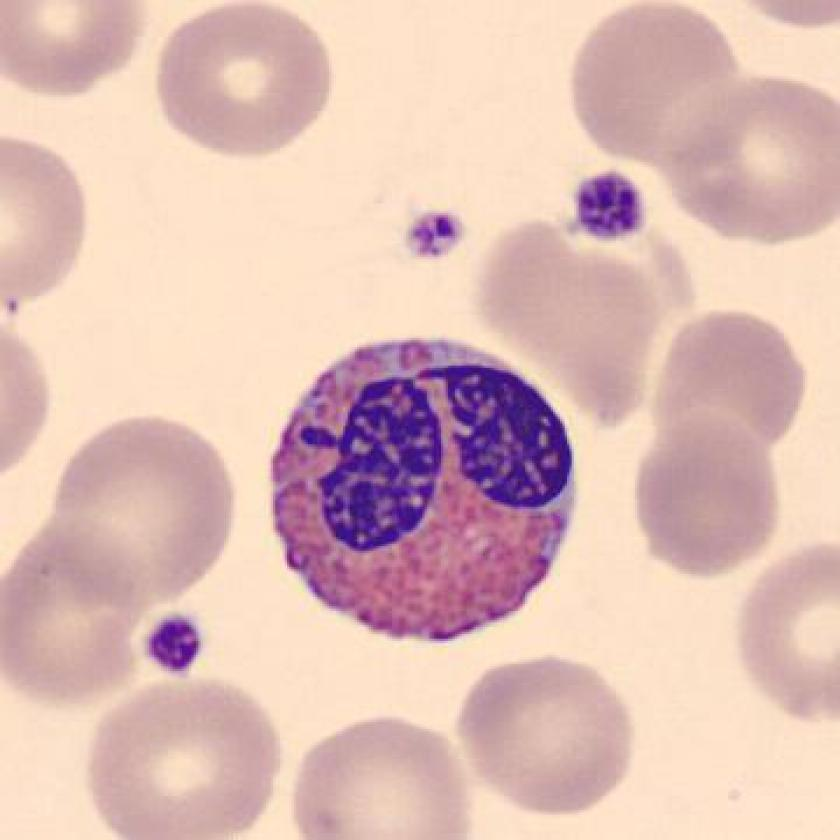eosinophil: (256, 318, 592, 654)
